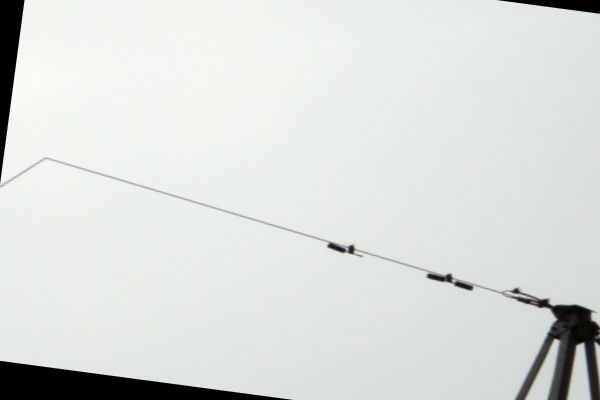damper_defect: (423, 270, 475, 292), (325, 241, 363, 257)
